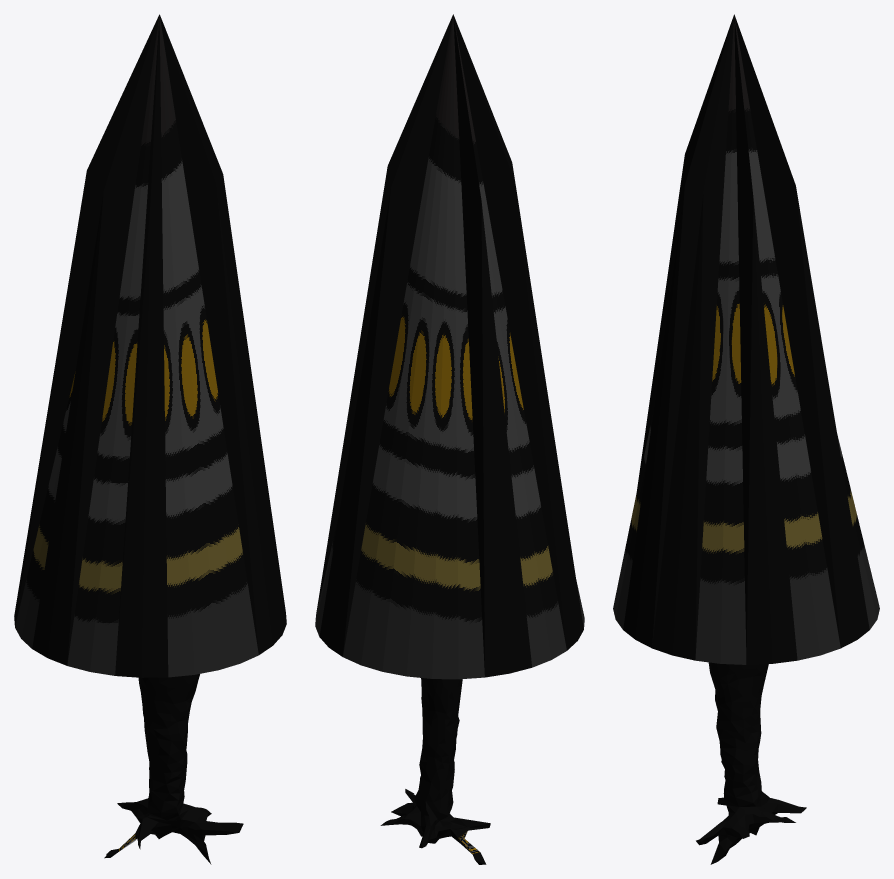
The model's file is RocketTree.glb.
The picture shows the model from 3 angles, left to right: view 1: azimuth 30°, elevation 25°; view 2: azimuth 150°, elevation 25°; view 3: azimuth 270°, elevation 25°; orthographic projection. The views are drawn at different scales.
Visible parts, largest first — view 1: Test_RocketTree; view 2: Test_RocketTree; view 3: Test_RocketTree.
Boxes of the visible parts, x1=… form: Test_RocketTree: x1=14, y1=14, x2=286, y2=864; Test_RocketTree: x1=315, y1=14, x2=584, y2=864; Test_RocketTree: x1=613, y1=14, x2=879, y2=864.
Bounding box in the file's own units: 2 × 6.88 × 2.
Materials: 1 (1 with a texture image).
